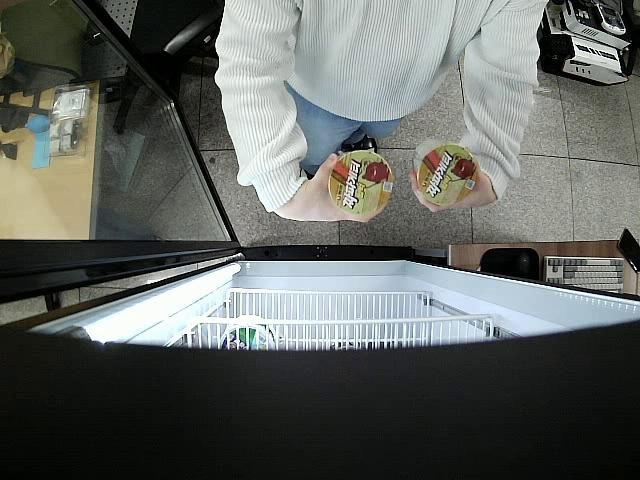04_chapagetti_S: (408, 136, 476, 208), (328, 150, 392, 217)
